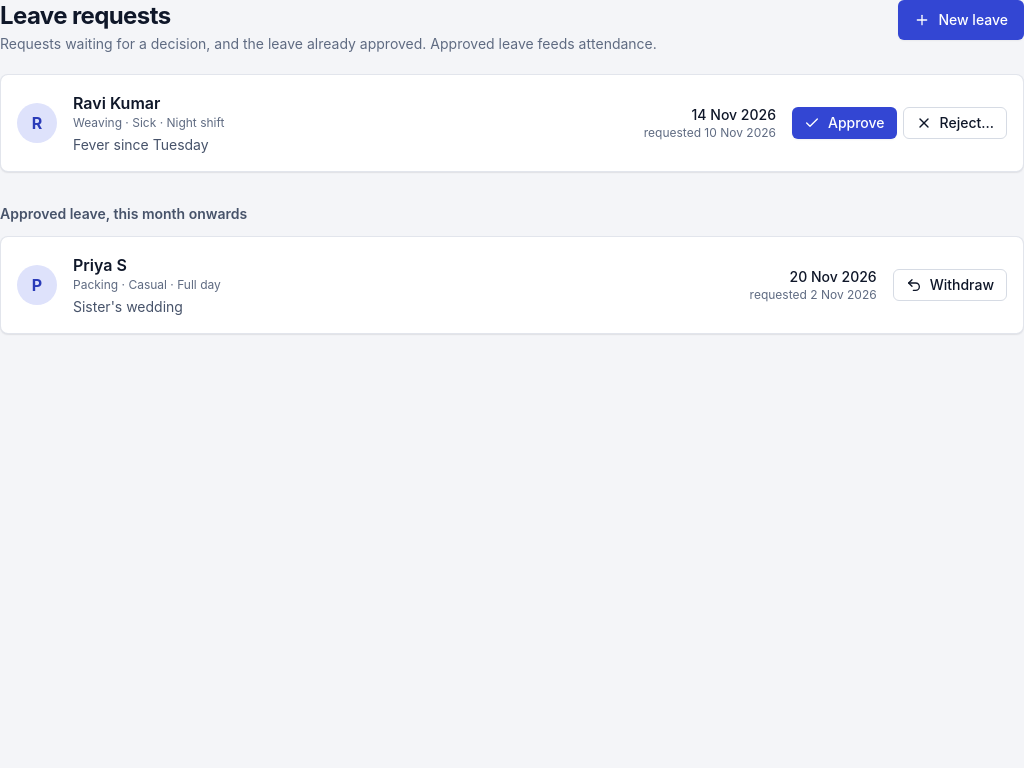
LeavePage › tells the approver the day is marked as leave unless it was worked
The width and height of the screenshot is (1024, 768).
Click the button "Approve": (844, 123) [792,107,897,139]
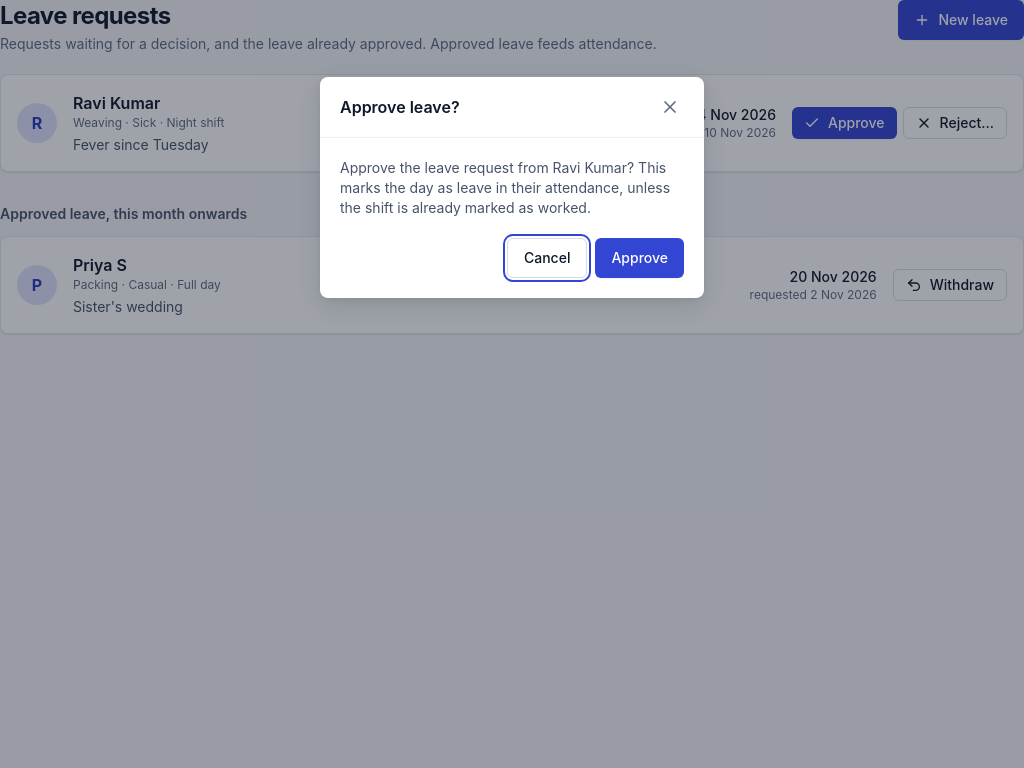
Check: the text "marks the day as leave in their attendance, unless the shift is already marked as worked" is shown, box [340,159,670,216]
